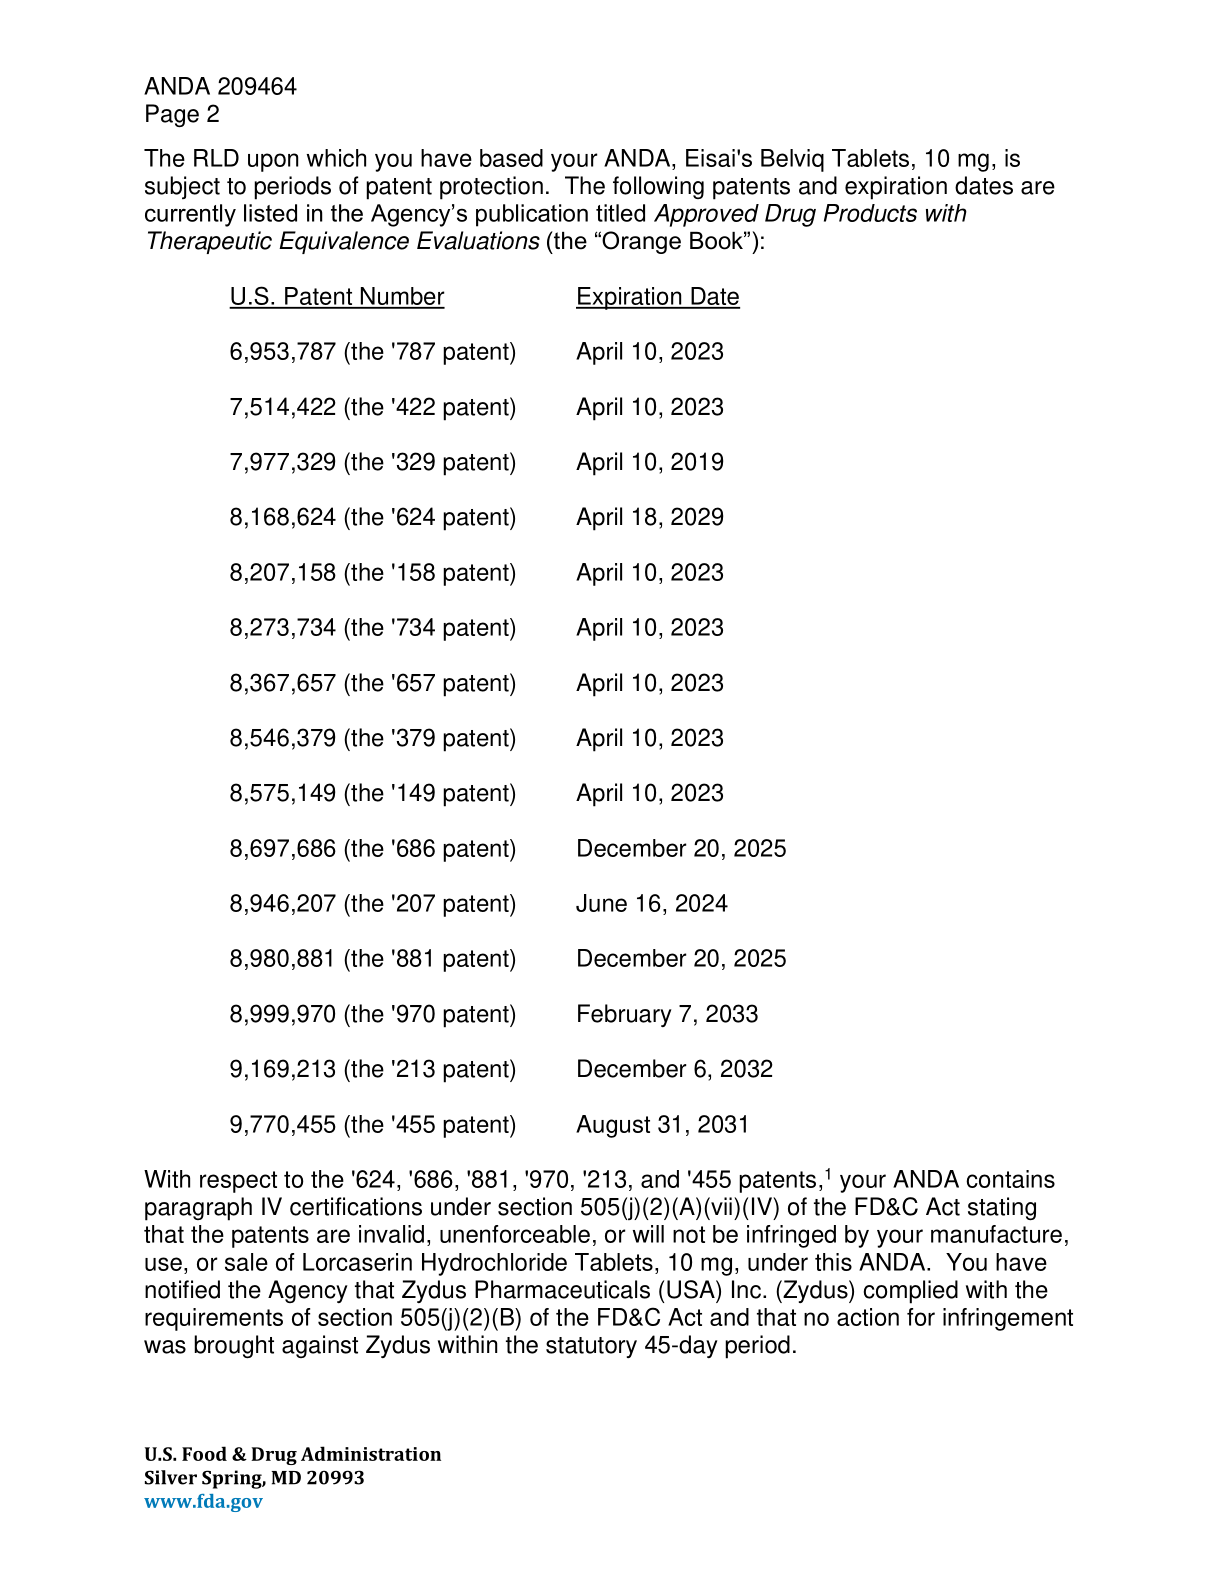nolines: (226, 280, 788, 1140)
